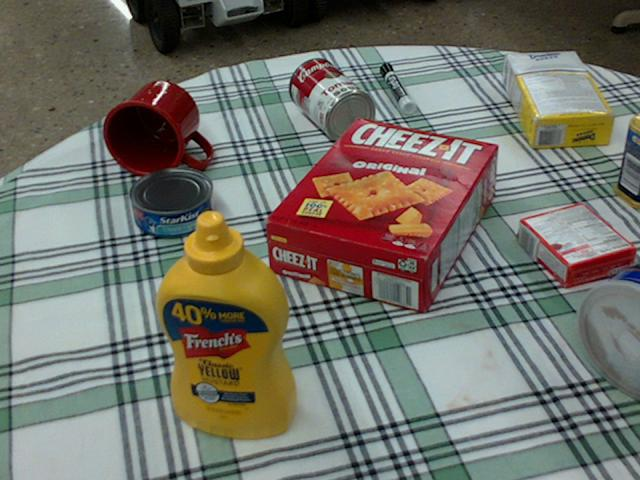cracker_box: (264, 118, 501, 312)
gelatin_box: (517, 202, 633, 285)
large_marker: (379, 63, 414, 112)
master_chef_can: (579, 259, 639, 399)
mug: (102, 80, 210, 177)
mustard_bottle: (155, 209, 298, 437)
potted_meat_can: (611, 114, 639, 208)
sugar_box: (503, 52, 615, 148)
tomato_soup_can: (288, 56, 375, 140)
tuna_fish_can: (127, 166, 213, 236)
